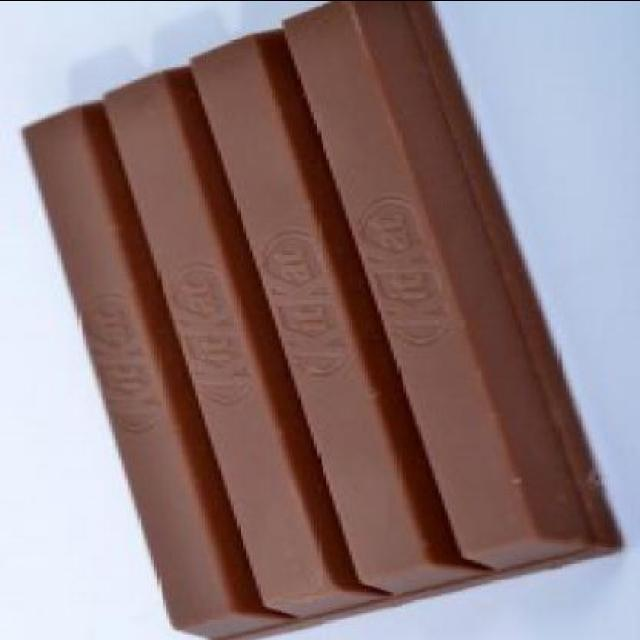Chocolate bar packaged: (19, 2, 624, 636)
